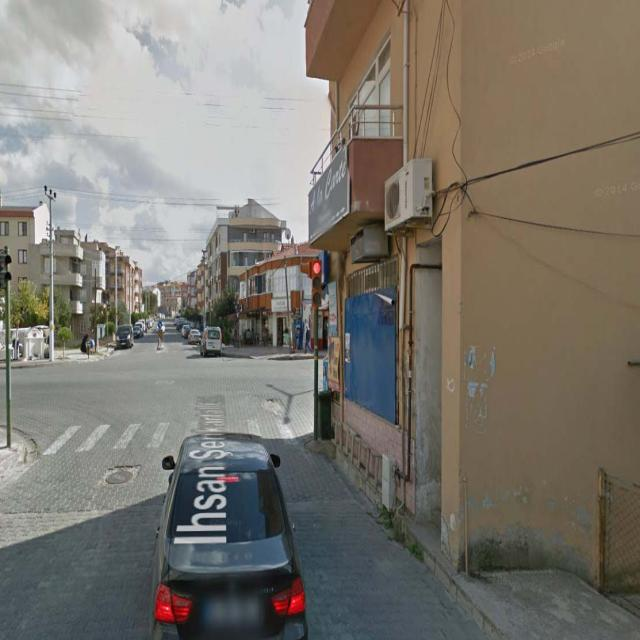kirmizi: (310, 260, 323, 310)
